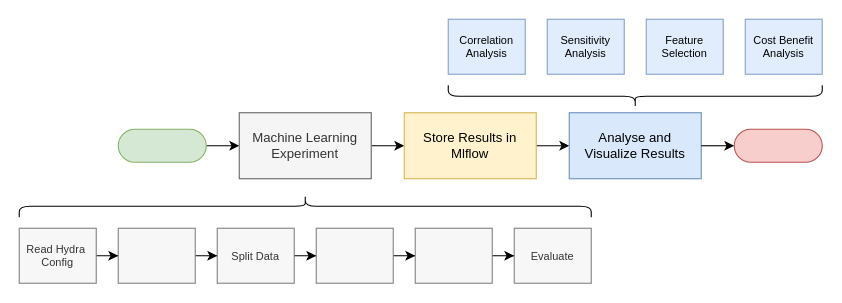
Image size: 842x303. Some labels were removed from this diagram. The centre of each missing label's shape, as x and y in pixels:
"End" goes at point (777, 145).
"Load Data" goes at point (156, 255).
"Preprocess" goes at point (354, 255).
"Start" goes at point (161, 145).
"Train" goes at point (453, 255).
